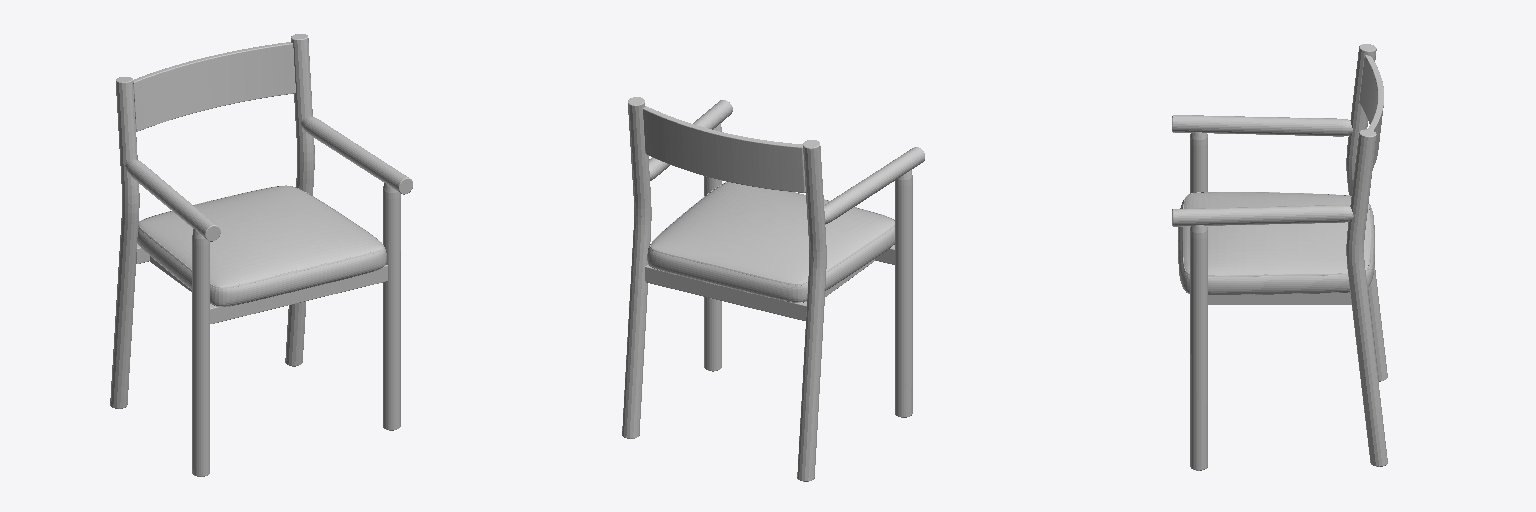
The model's file is kursi.obj.
The picture shows the model from 3 angles: view 1: azimuth 30°, elevation 25°; view 2: azimuth 150°, elevation 25°; view 3: azimuth 270°, elevation 25°; orthographic projection.
Parts seen in each view (by area): view 1: Frame, Seat; view 2: Frame, Seat; view 3: Frame, Seat.
Boxes of the visible parts, box(x1,y1,x2,y2) form: Frame: box(110, 34, 412, 476); Seat: box(137, 185, 386, 306); Frame: box(622, 97, 924, 481); Seat: box(647, 182, 894, 302); Frame: box(1172, 44, 1387, 470); Seat: box(1178, 192, 1374, 295).
Bounding box in the file's own units: 0.5415 × 0.8269 × 0.486.